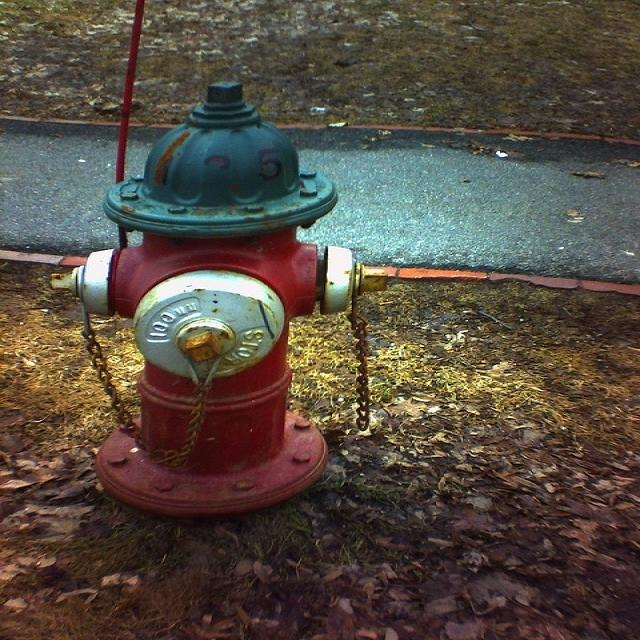fire_hydrant: (80, 84, 375, 506)
